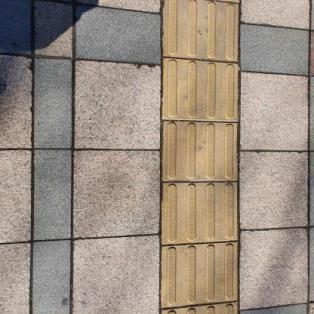Podoctatil: (154, 0, 245, 313)
